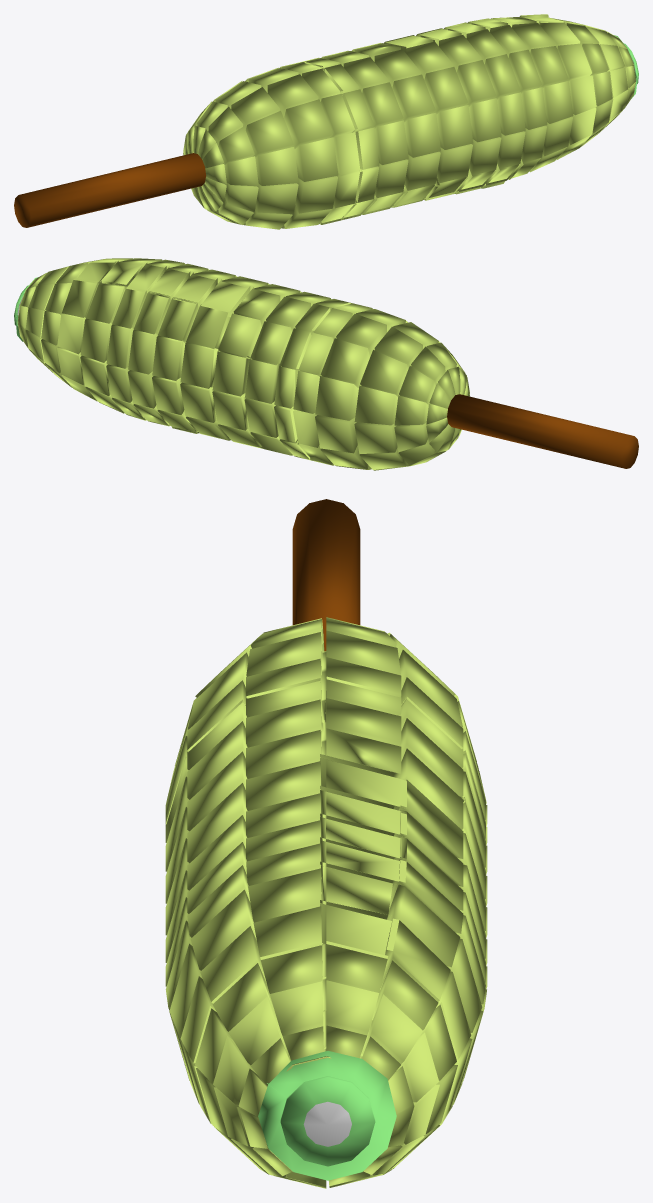
The model's file is Elote.fbx.
The picture shows the model from 3 angles, top to bottom: view 1: azimuth 30°, elevation 25°; view 2: azimuth 150°, elevation 25°; view 3: azimuth 270°, elevation 25°; orthographic projection. The views are drawn at different scales.
Visible parts, largest first — view 1: Cilindro; view 2: Cilindro; view 3: Cilindro, Esfera.
Boxes of the visible parts, left/top/right/bottom form: Cilindro: left=14, top=14, right=635, bottom=229; Cilindro: left=17, top=258, right=638, bottom=470; Cilindro: left=165, top=499, right=487, bottom=1188; Esfera: left=258, top=1051, right=396, bottom=1180.
Size of the model in its own units: 504 by 122 by 116.
